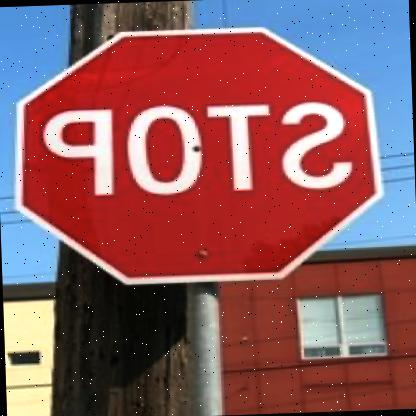stop: (11, 20, 390, 288)
